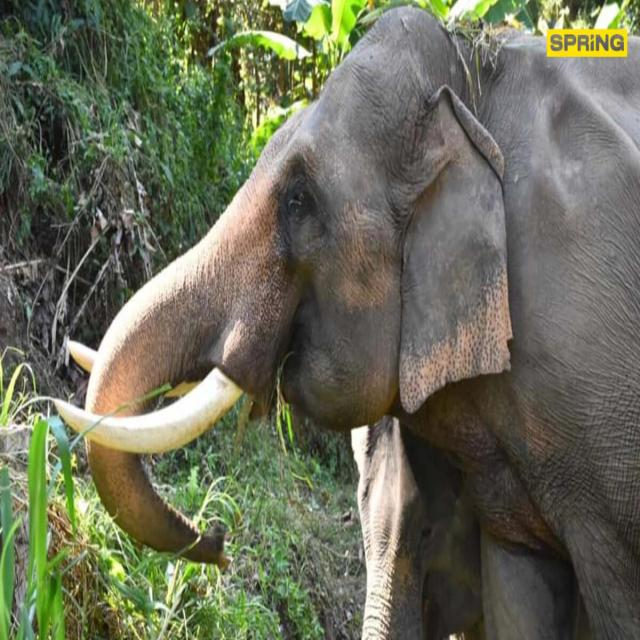Elephant: (74, 9, 640, 639)
